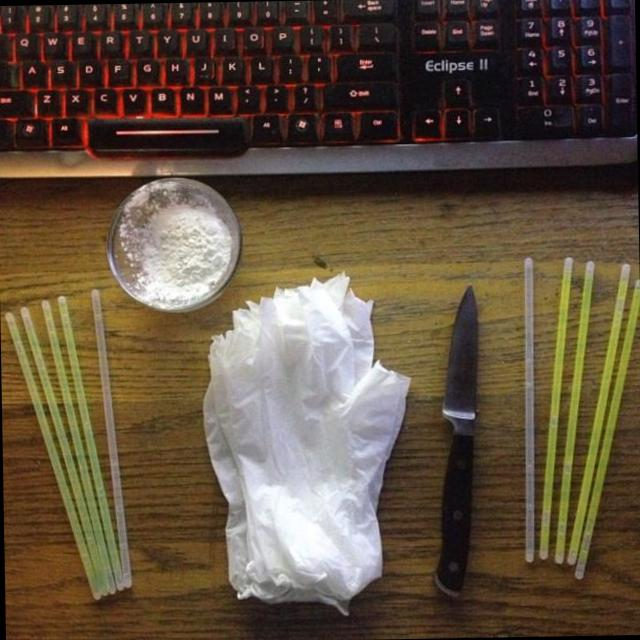Knife: (435, 286, 478, 596)
